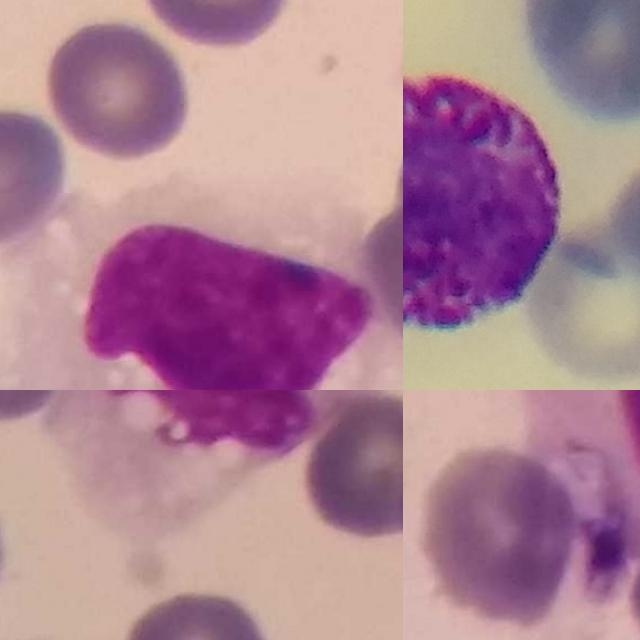Basophil: (403, 71, 561, 333)
Monocyte: (1, 192, 399, 390), (52, 390, 367, 546), (519, 390, 640, 550)
